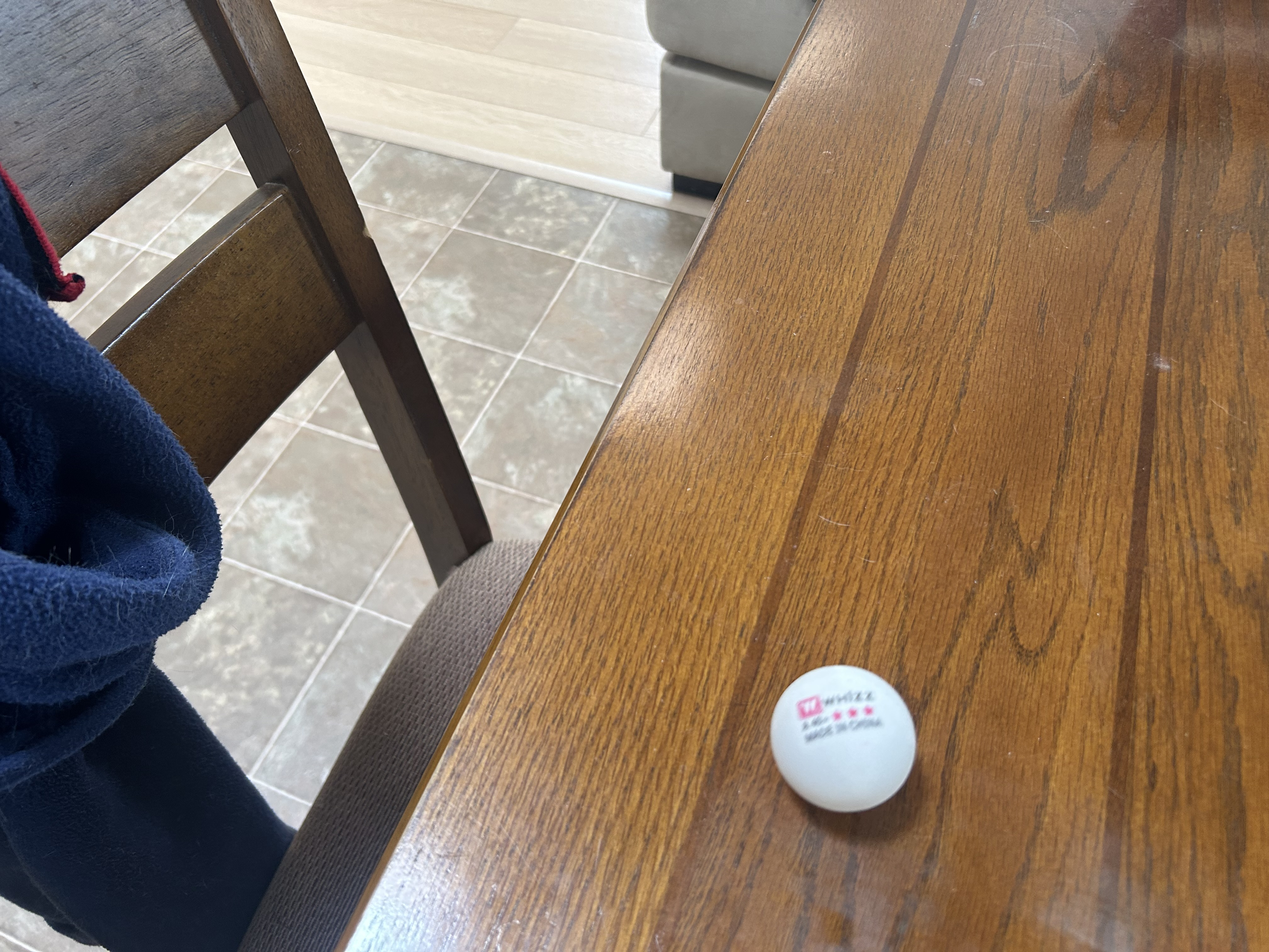Ball: (775, 655, 917, 805)
